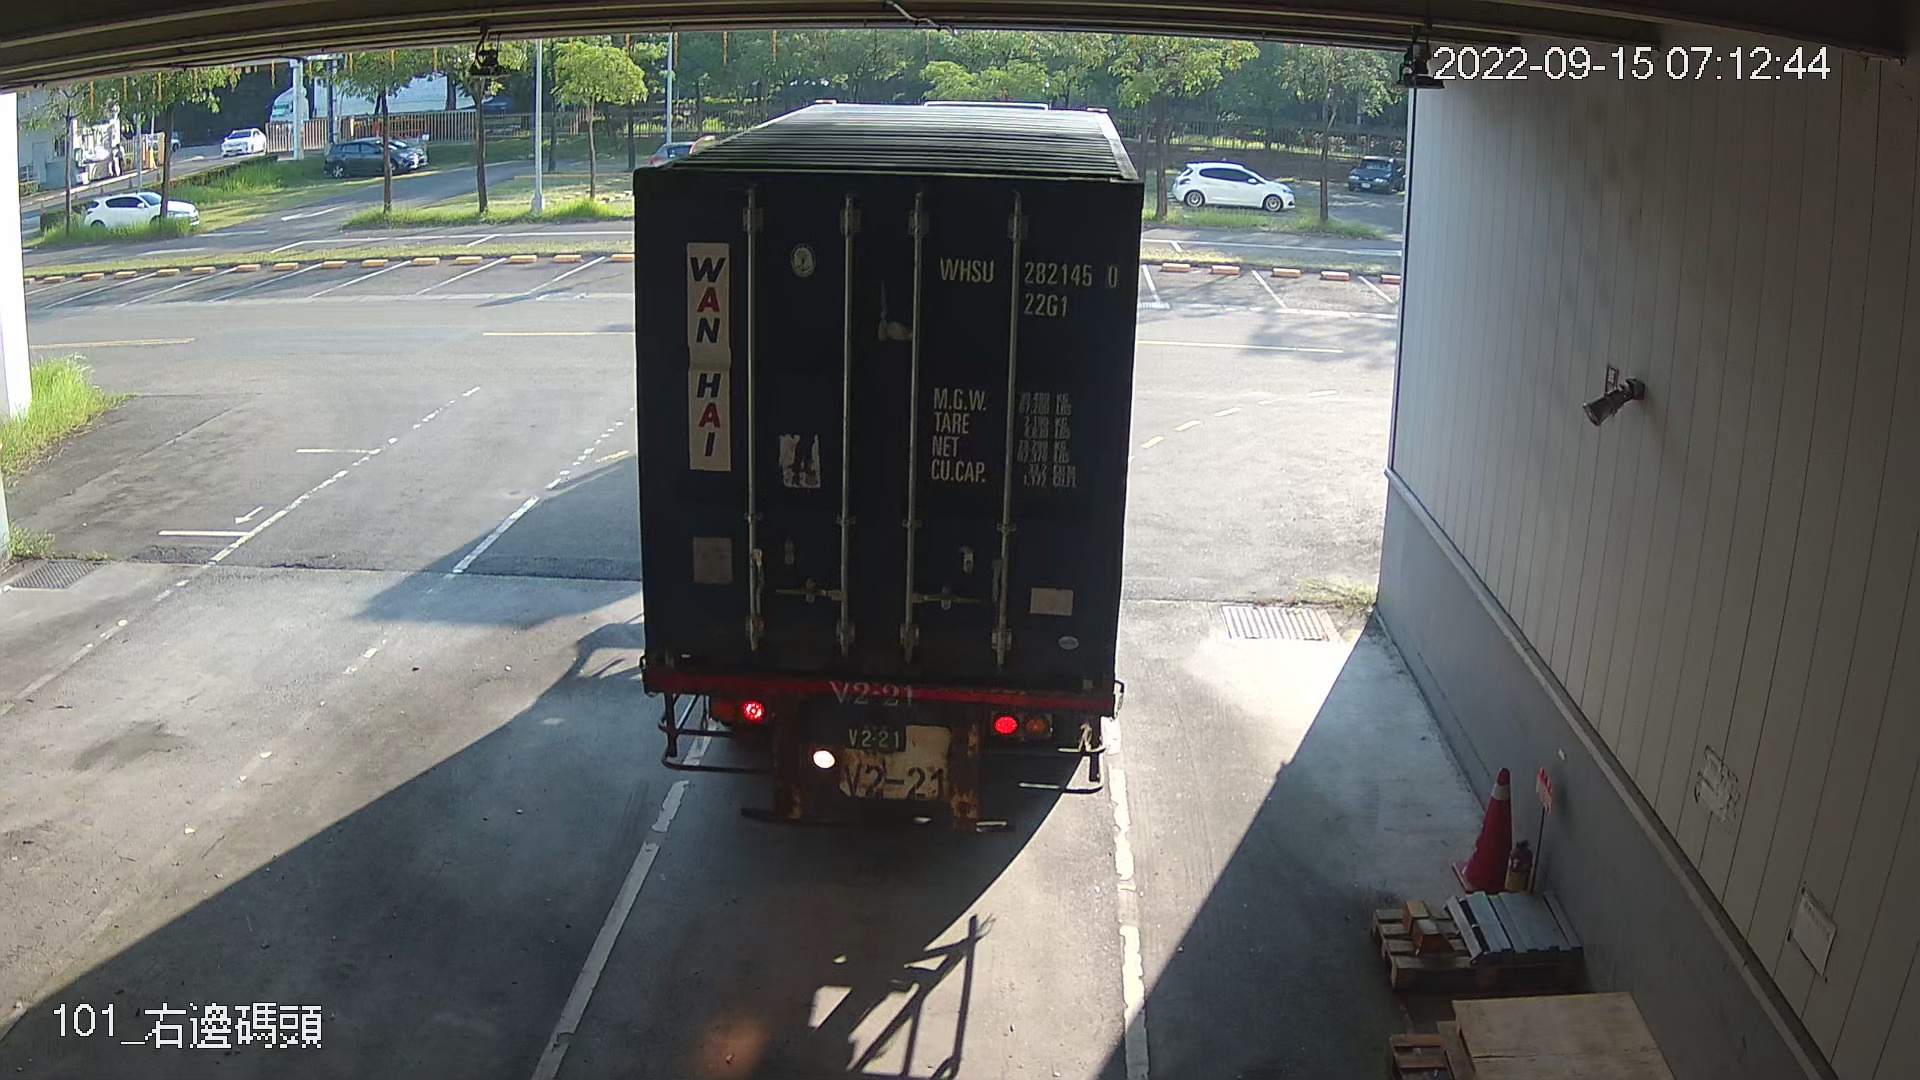container: (928, 244, 1127, 324)
